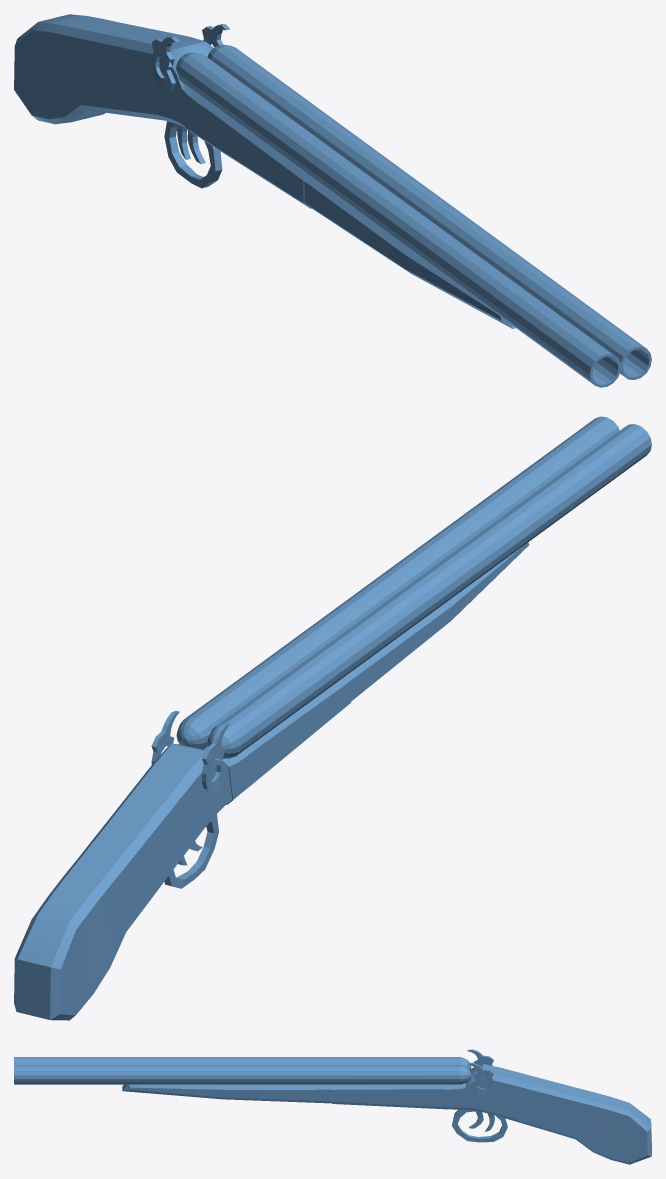
File: Shotgun.FBX
The picture shows the model from 3 angles, top to bottom: view 1: azimuth 30°, elevation 25°; view 2: azimuth 150°, elevation 25°; view 3: azimuth 270°, elevation 25°; orthographic projection. The views are drawn at different scales.
Visible parts, largest first — view 1: Gun body; view 2: Gun body; view 3: Gun body.
Part boxes in pixels (x1=…): Gun body: x1=14, y1=14, x2=651, y2=387; Gun body: x1=14, y1=416, x2=651, y2=1020; Gun body: x1=14, y1=1049, x2=651, y2=1164.
Size of the model in its own units: 7.18 by 21.14 by 118.
